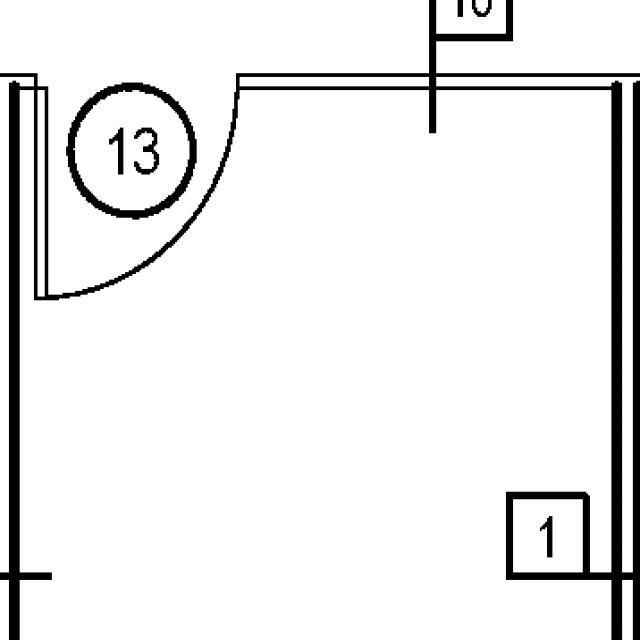Doors: (26, 67, 243, 304)
